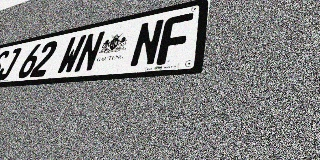2: (29, 40, 59, 77)
6: (15, 43, 45, 79)
F: (156, 13, 193, 65)
J: (0, 47, 22, 81)
N: (129, 18, 165, 68), (73, 30, 106, 73)
S: (0, 50, 11, 82)
W: (55, 34, 87, 75)
